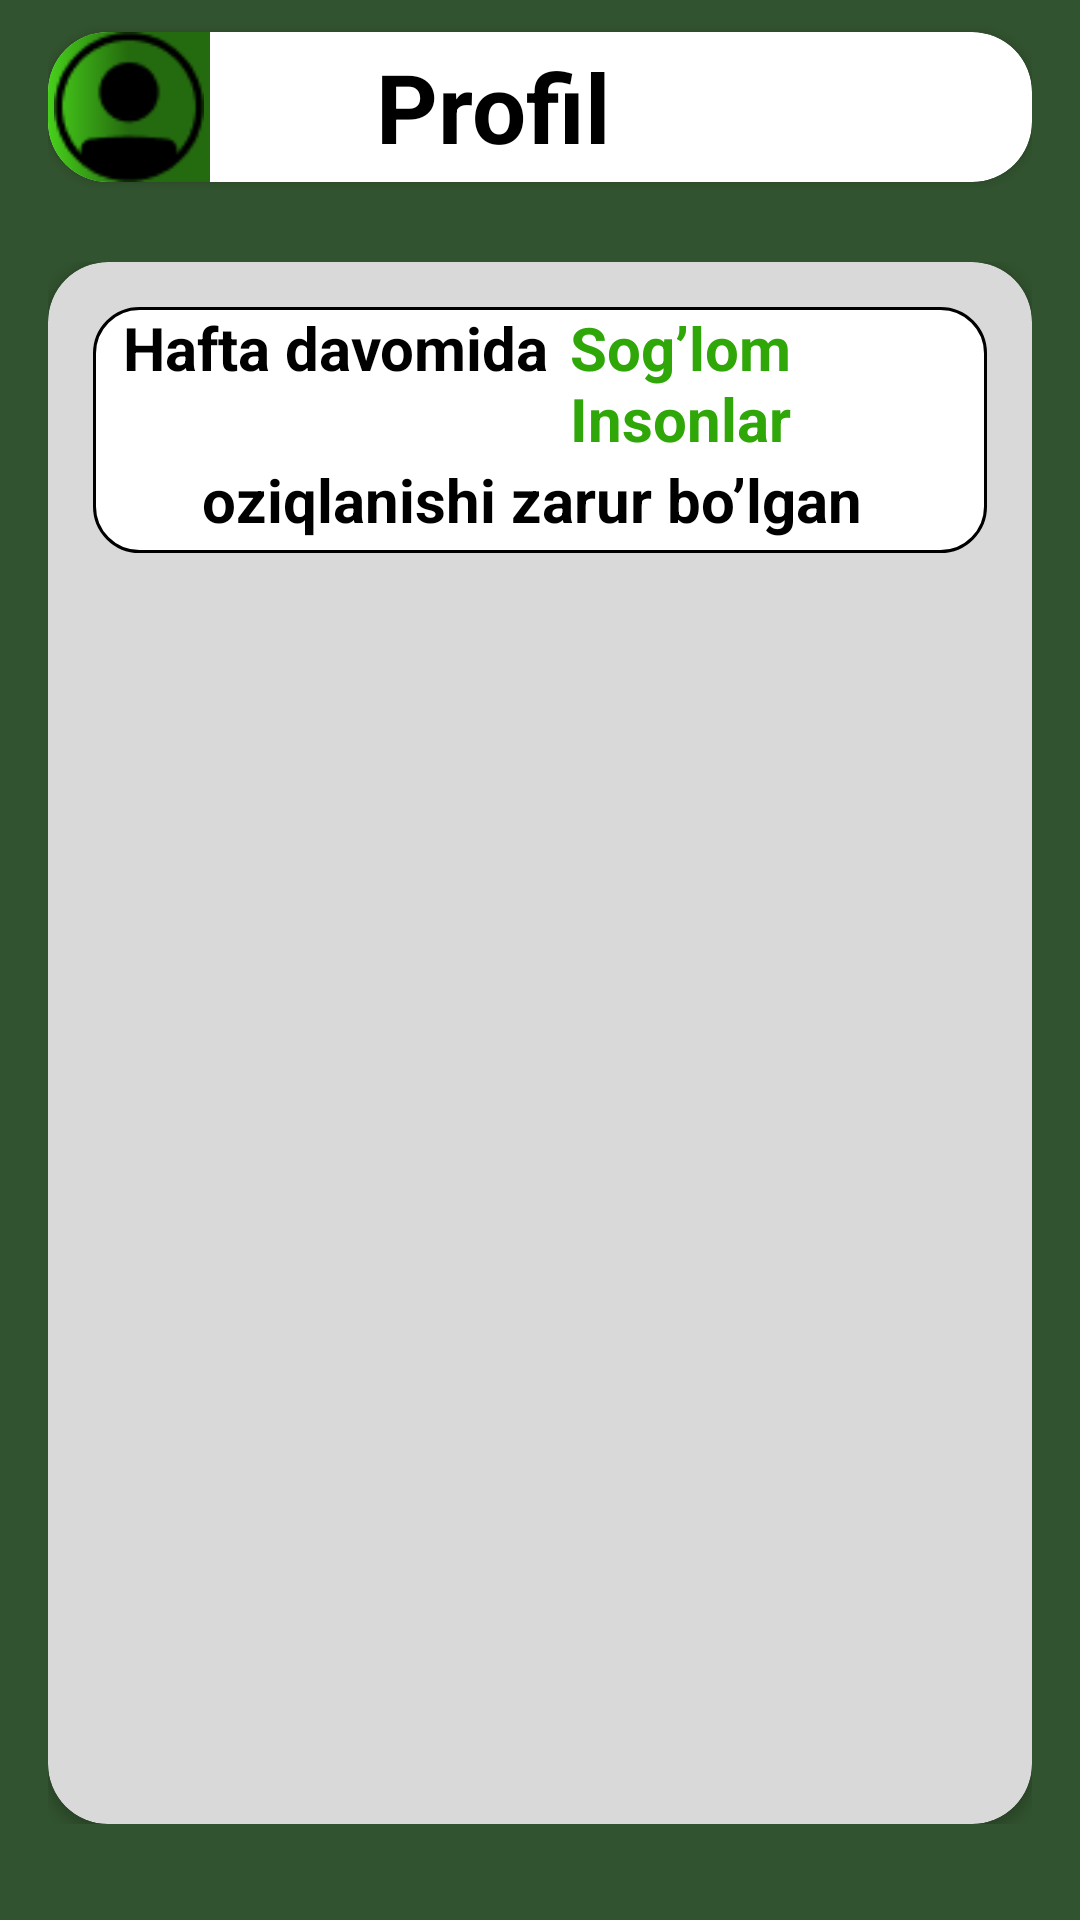

Icon click points for this 1080w x 1920h phone screenshot, format point (x, y):
profile: point (129, 107)
